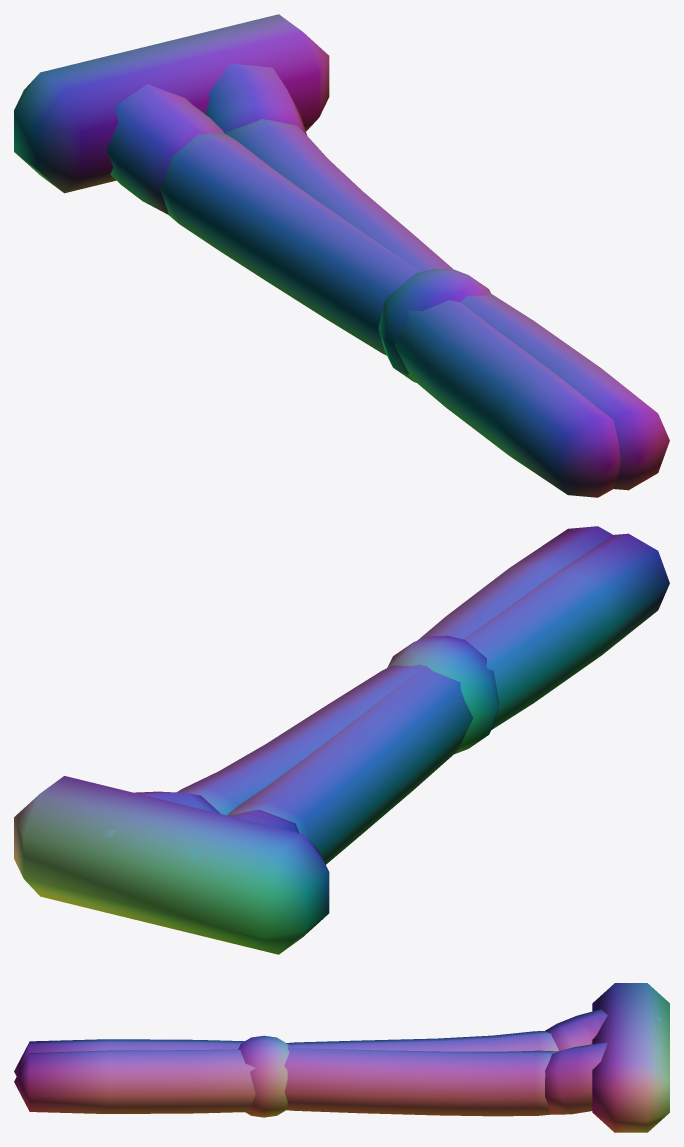
The model's file is SM_NPCKit_Prop_Tongs.fbx.
3 renders of one model, top to bottom at view 1: azimuth 30°, elevation 25°; view 2: azimuth 150°, elevation 25°; view 3: azimuth 270°, elevation 25°, orthographic. The views are drawn at different scales.
Visible parts, largest first — view 1: SM_NPCKit_Prop_Tongs; view 2: SM_NPCKit_Prop_Tongs; view 3: SM_NPCKit_Prop_Tongs.
Boxes of the visible parts, x1=… form: SM_NPCKit_Prop_Tongs: x1=14, y1=14, x2=669, y2=497; SM_NPCKit_Prop_Tongs: x1=14, y1=526, x2=669, y2=954; SM_NPCKit_Prop_Tongs: x1=14, y1=983, x2=669, y2=1132.
Bounding box in the file's own units: 0.1929 × 0.0836 × 0.5502.
